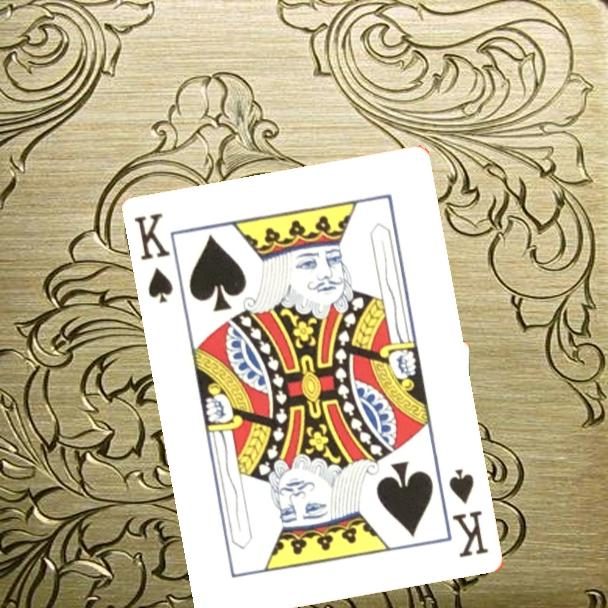s13: (445, 465, 492, 561), (131, 210, 177, 307)
